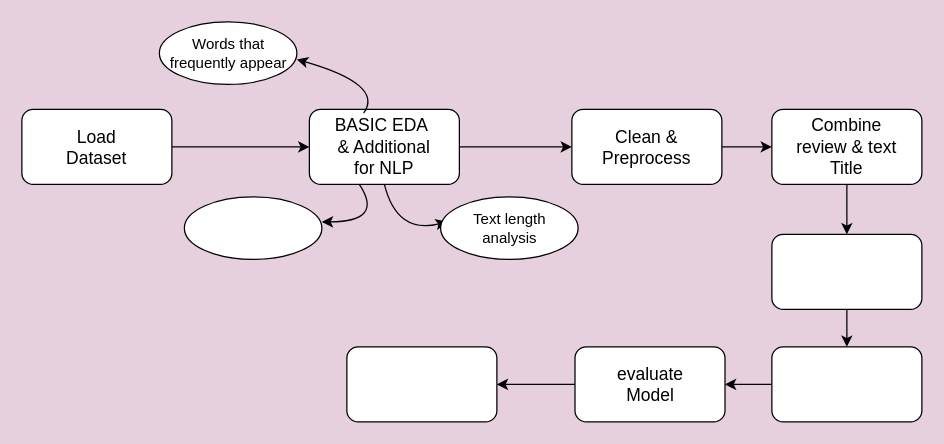
Image size: 944x444. Some labels were removed from this diagram. The shapes that lost their labels are listed below. From the top down, each one's centre as x and y in pixels, then its label:
At [252,227]: "Check the target class distribution".
At [846,271]: "TF-IDF Vectorizing".
At [421,384]: "export Model & TFi-IDF vectorizer".
At [846,384]: "Train Logistic regression".
